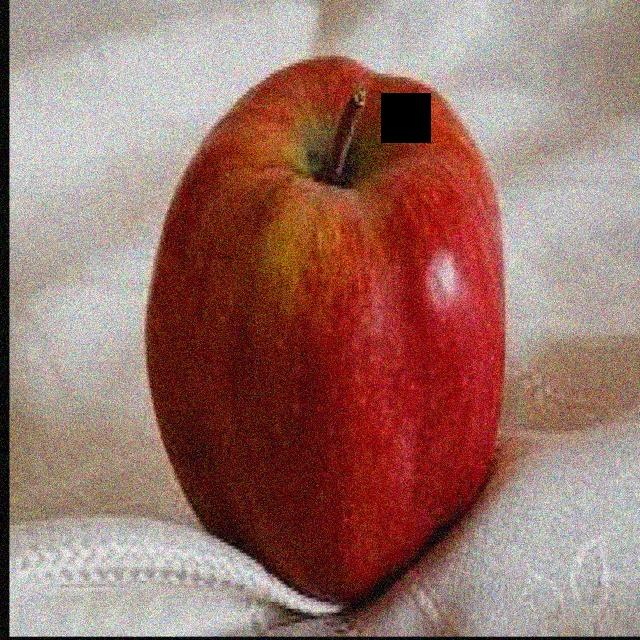red apple: (128, 48, 517, 604)
